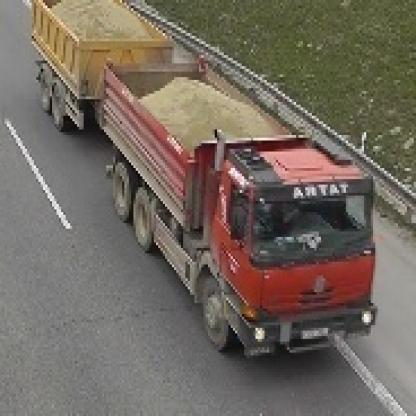truck: (31, 1, 379, 359)
